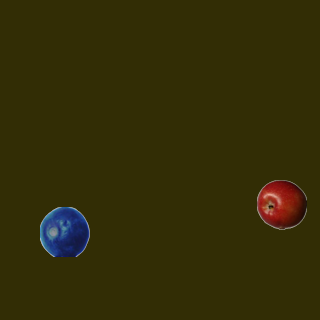Apple Braeburn: (256, 179, 306, 229)
Huckleberry: (39, 206, 89, 256)
